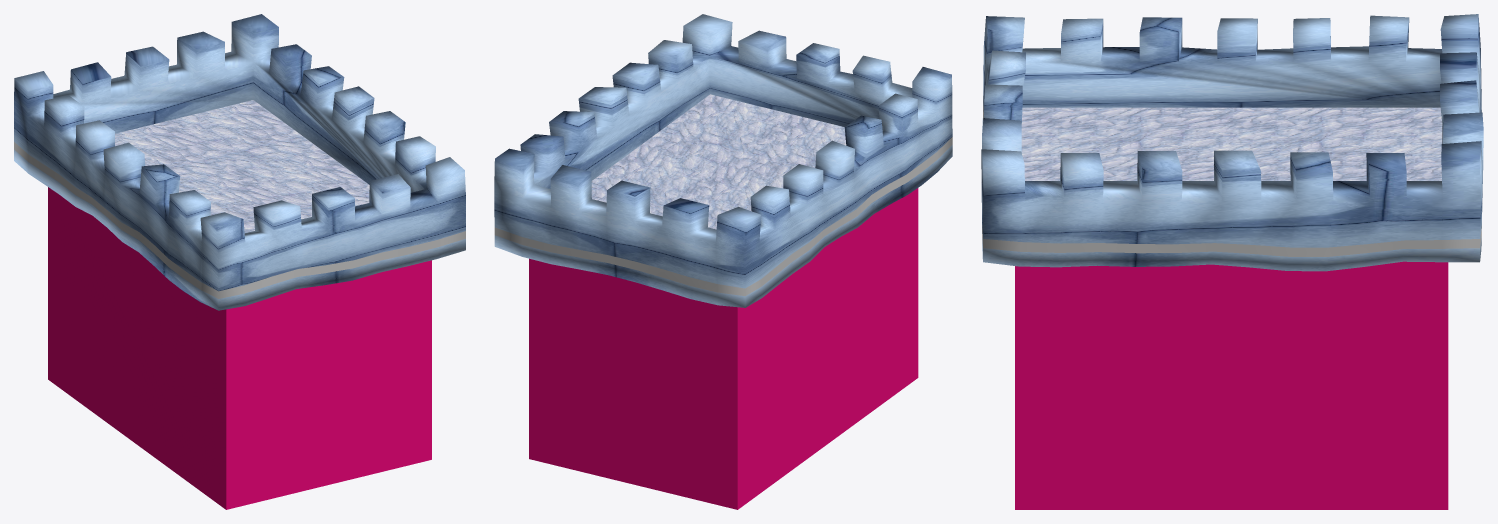
The model's file is niftyTower.fbx.
The picture shows the model from 3 angles, left to right: view 1: azimuth 30°, elevation 25°; view 2: azimuth 150°, elevation 25°; view 3: azimuth 270°, elevation 25°; orthographic projection. The views are drawn at different scales.
Visible parts, largest first — view 1: Cube; view 2: Cube; view 3: Cube.
Boxes of the visible parts, x1,y1,x2,y2 form: Cube: (14, 14, 465, 509); Cube: (494, 14, 952, 509); Cube: (981, 14, 1483, 509).
Size of the model in its own units: 2.57 by 2.87 by 3.58.
